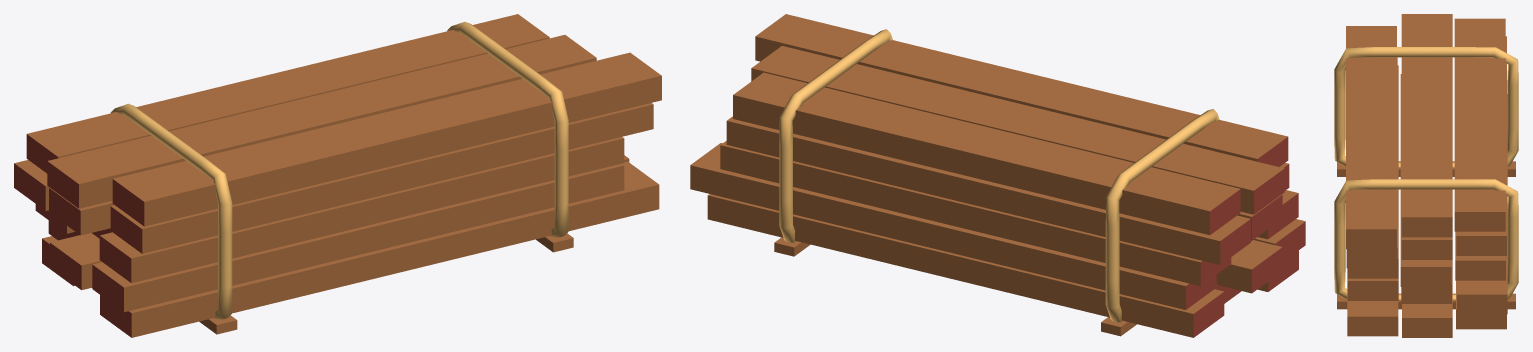
The model's file is prop.plank-stack.lod1.glb.
The picture shows the model from 3 angles, left to right: view 1: azimuth 30°, elevation 25°; view 2: azimuth 150°, elevation 25°; view 3: azimuth 270°, elevation 25°; orthographic projection. The views are drawn at different scales.
Size of the model in its own units: 2.68 by 0.728 by 0.968.
